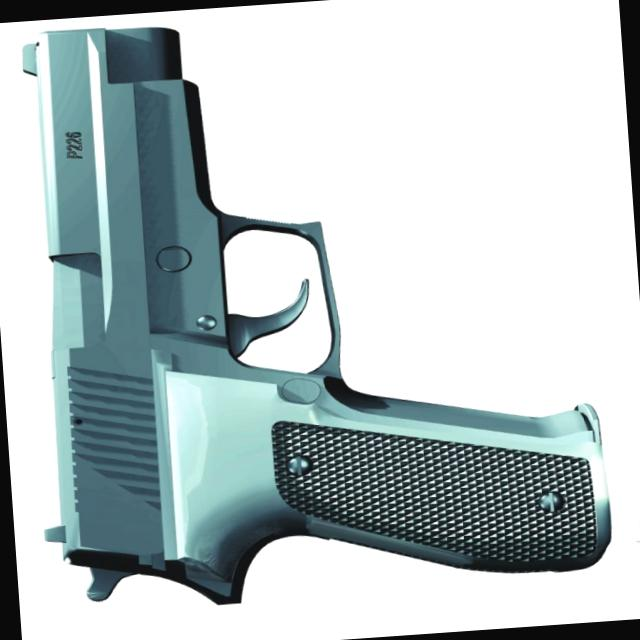handgun: (3, 0, 618, 629)
